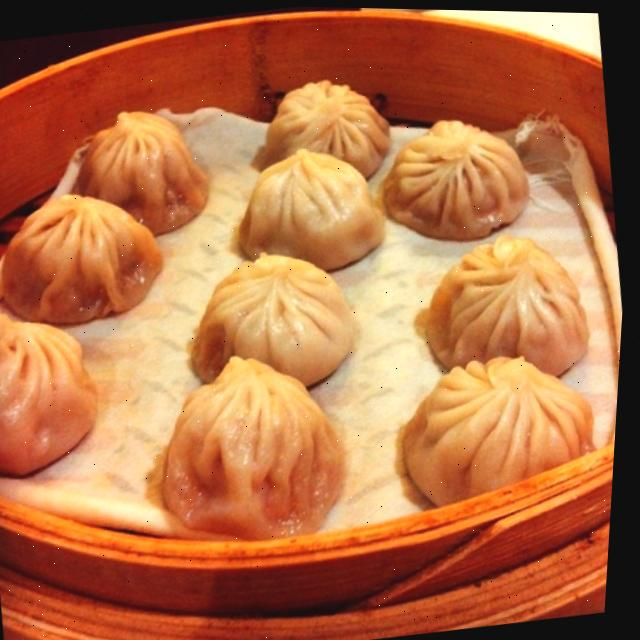带馅早点: (0, 0, 640, 620)
